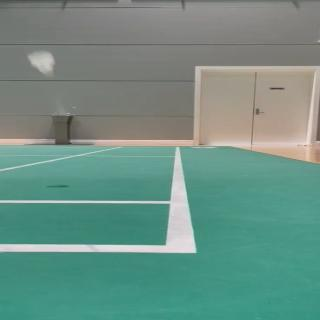Shuttle: (26, 50, 56, 77)
